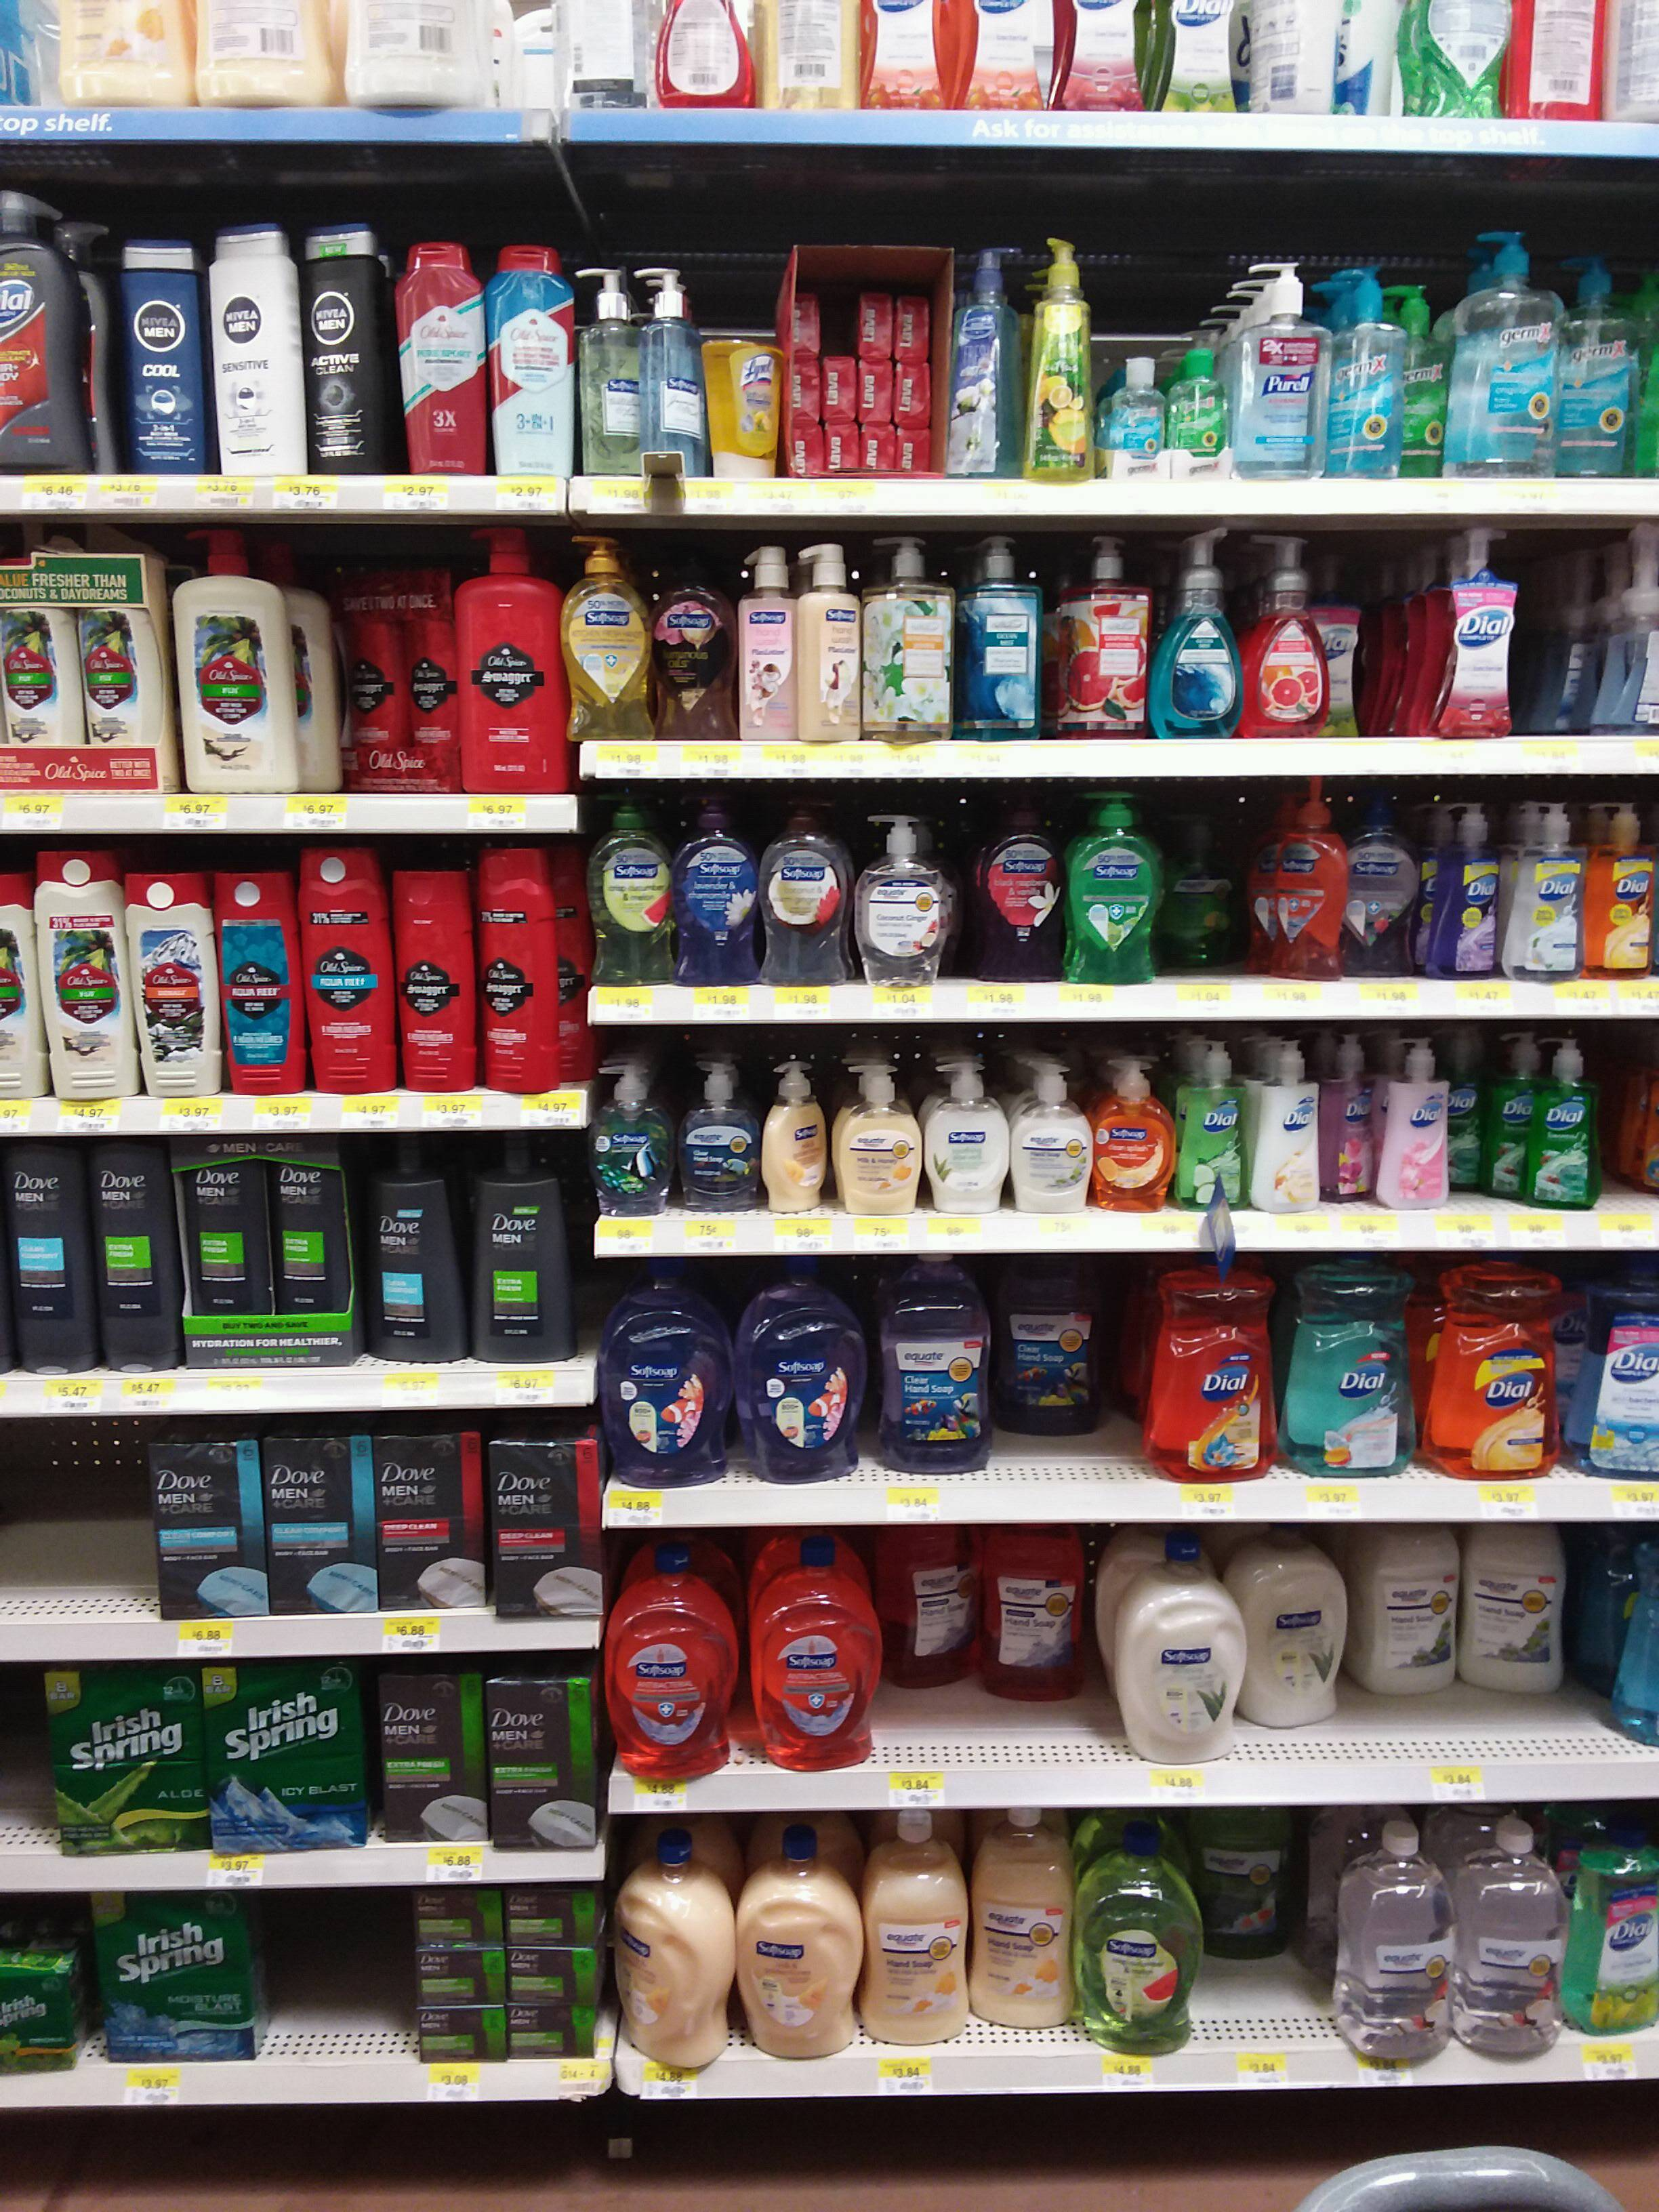Misplacement: (875, 1527, 1124, 1764)
Out-of-stock: (0, 1418, 157, 1620)
